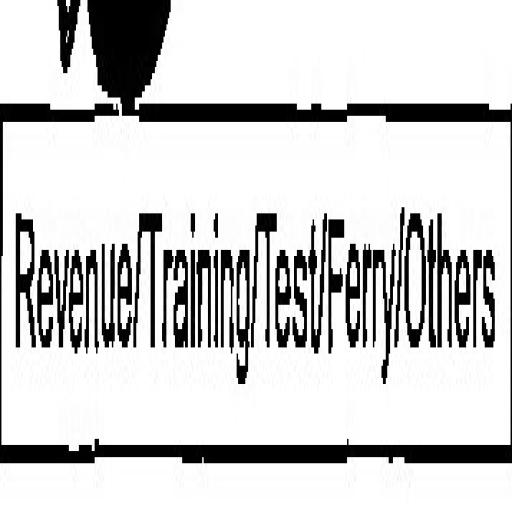check: (2, 0, 140, 507)
